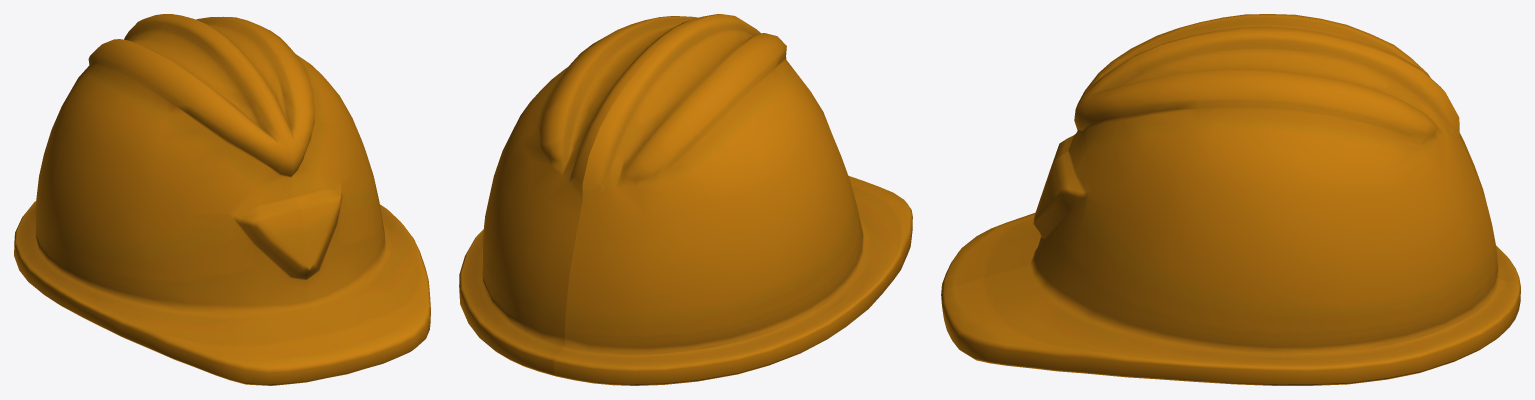
Rendered from Miner.fbx.
3 renders of one model, left to right at view 1: azimuth 30°, elevation 25°; view 2: azimuth 150°, elevation 25°; view 3: azimuth 270°, elevation 25°, orthographic. The views are drawn at different scales.
Parts seen in each view (by area): view 1: node_id52; view 2: node_id52; view 3: node_id52.
Part boxes in pixels (x1,y1,x2,y2): node_id52: [14, 14, 430, 385]; node_id52: [459, 14, 912, 385]; node_id52: [941, 14, 1520, 385].
Size of the model in its own units: 0.3951 by 0.2755 by 0.512.
1 material, 1 textured.
